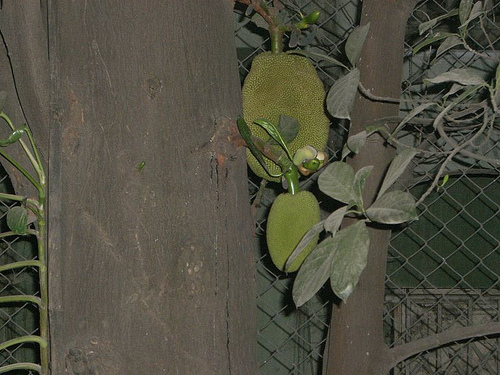jackfruit: (240, 22, 332, 188), (263, 171, 324, 277)
